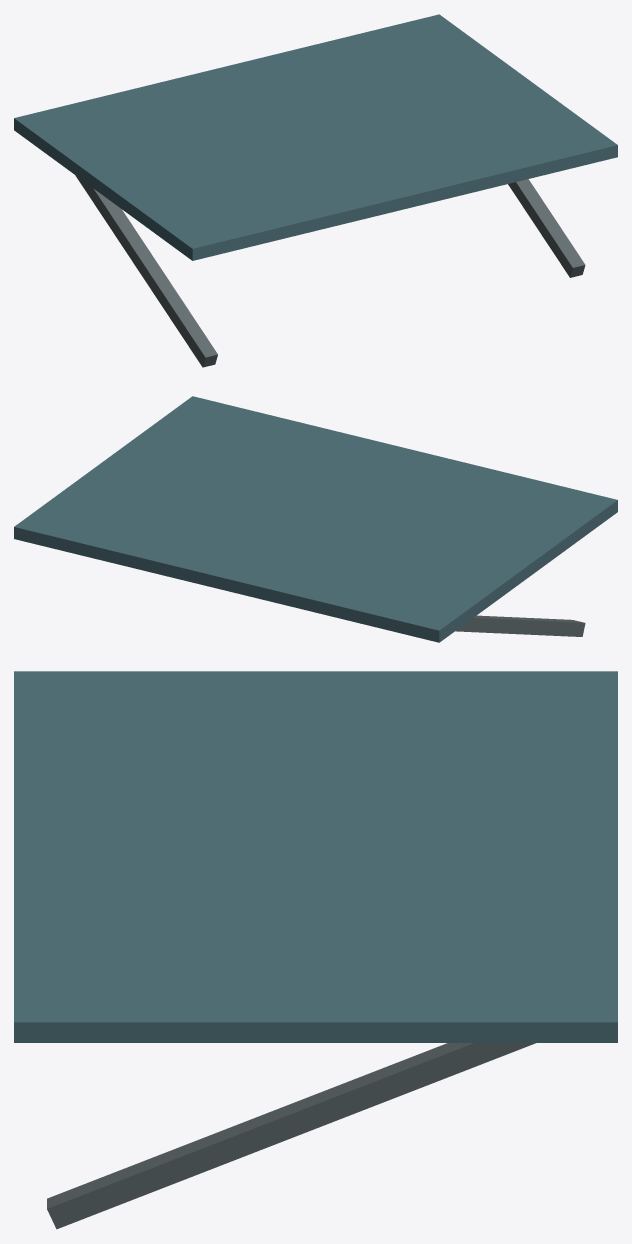
3 views of the same model, one above another, from view 1: azimuth 30°, elevation 25°; view 2: azimuth 150°, elevation 25°; view 3: azimuth 270°, elevation 25° (orthographic). The views are drawn at different scales.
Parts seen in each view (by area): view 1: QH-A0098_V01_geometry; view 2: QH-A0098_V01_geometry; view 3: QH-A0098_V01_geometry.
Part boxes in pixels (left/top/right/bottom): QH-A0098_V01_geometry: left=14, top=14, right=617, bottom=367; QH-A0098_V01_geometry: left=14, top=396, right=617, bottom=642; QH-A0098_V01_geometry: left=14, top=671, right=617, bottom=1229.
Bounding box in the file's own units: 2.2 × 0.6599 × 1.6.
